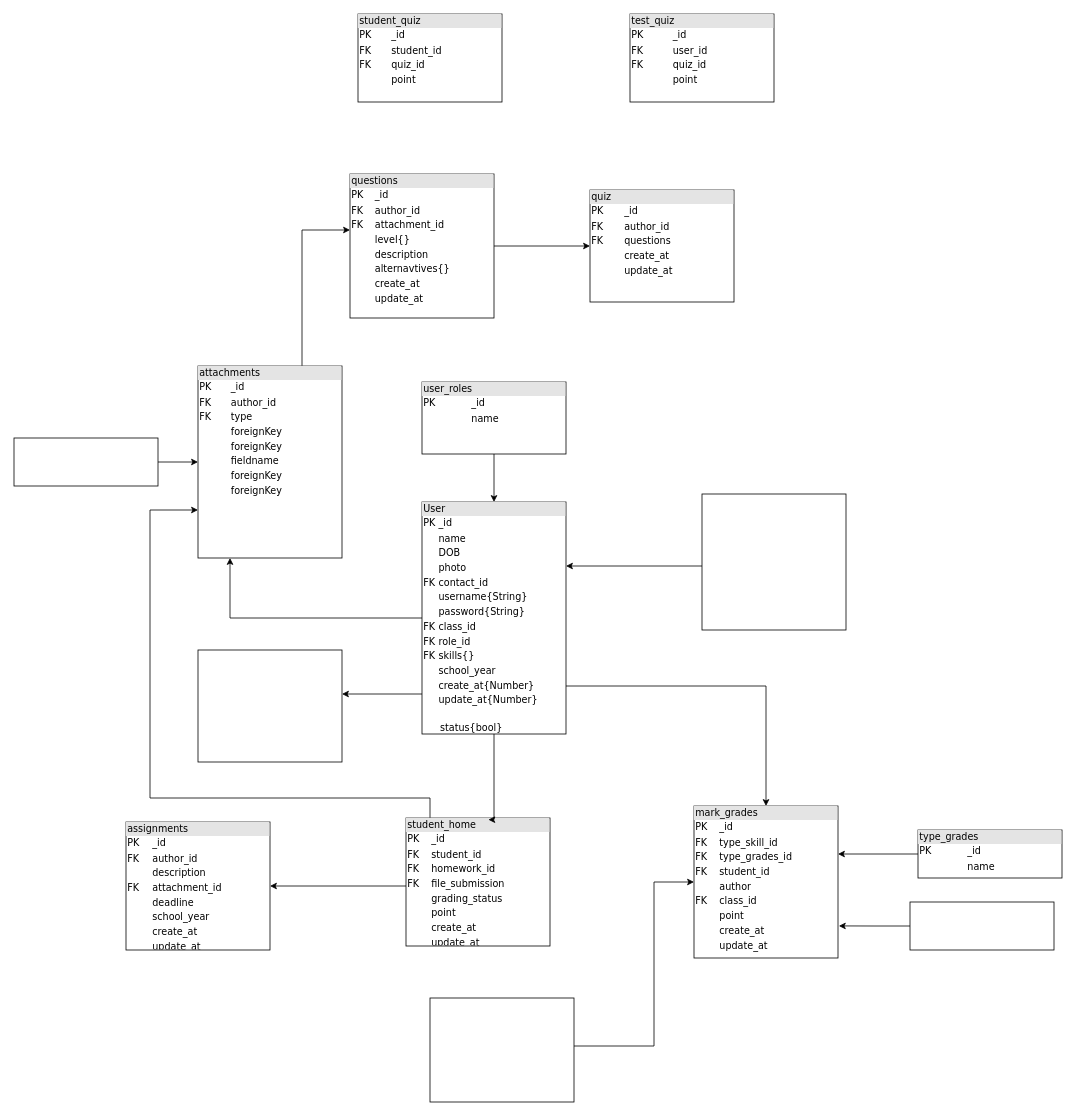
Some shapes in this 1076 by 1116 pixel diagram are drawn without their labels. Here are the shapes that lost their labels. From the top down, the centre of each, then its label:
At point 85,461: "type_attachment PK _id name".
At point 773,561: "user_skill PK _id grammar listening speaking reading writing create_at update_at".
At point 269,705: "Reviews PK _id author student_id content recommend".
At point 981,925: "type_skill PK _id name".
At point 501,1049: "class PK _id name status school_year create_at update_at".
